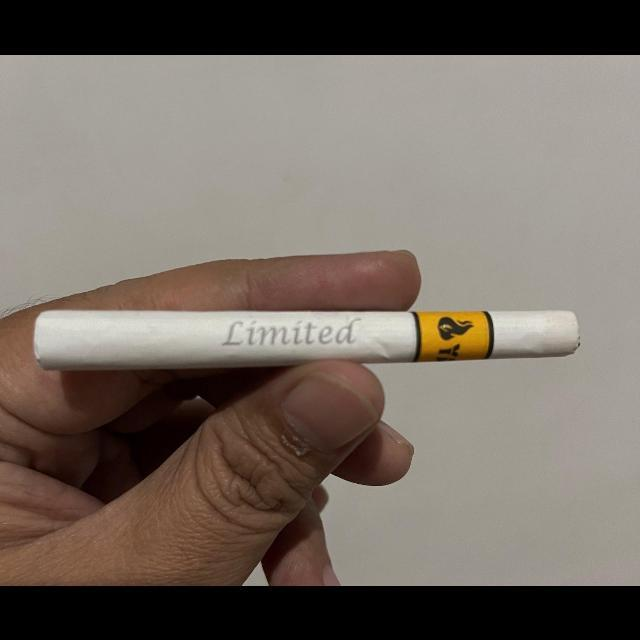rokok: (25, 297, 587, 378)
